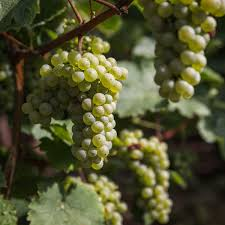grapes: (26, 48, 117, 173), (149, 1, 209, 103), (126, 127, 178, 220)
